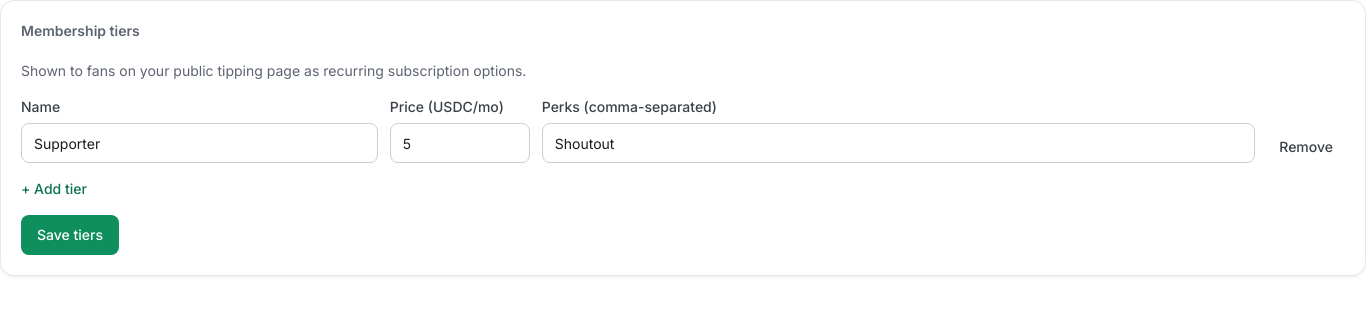
Test: MembershipTierManager › blocks saving a tier with no name
The width and height of the screenshot is (1366, 330).
Clear the field labelled "Name": coordinates (199, 143) [21, 123, 378, 163]
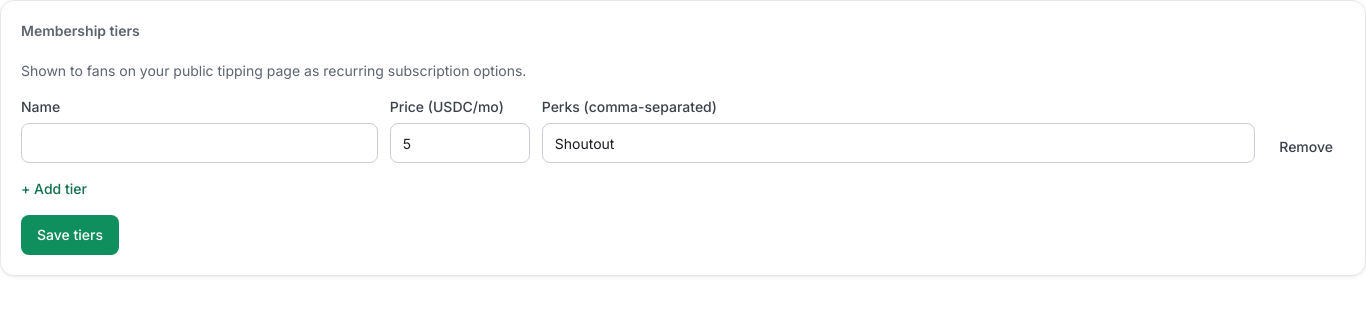
Click the button "Save tiers": coordinates (70, 235) [21, 215, 119, 255]
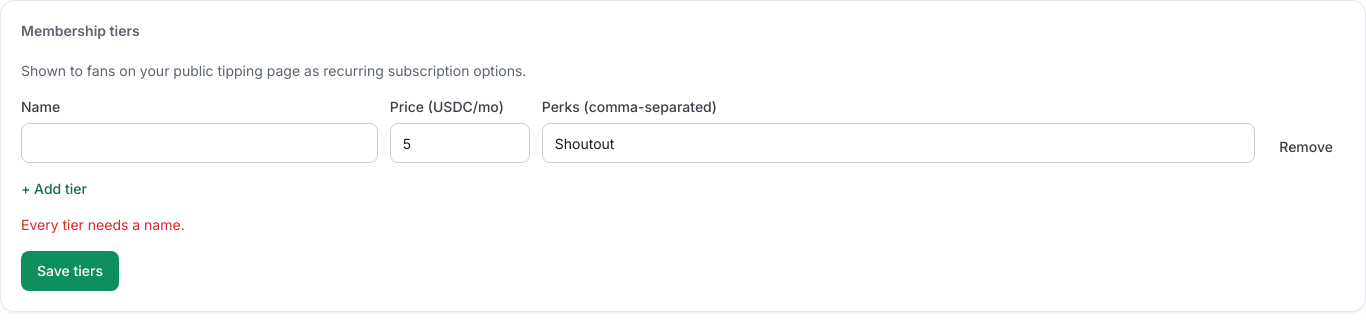
expect the text "Every tier needs a name." is shown: met, box [21, 216, 185, 233]
